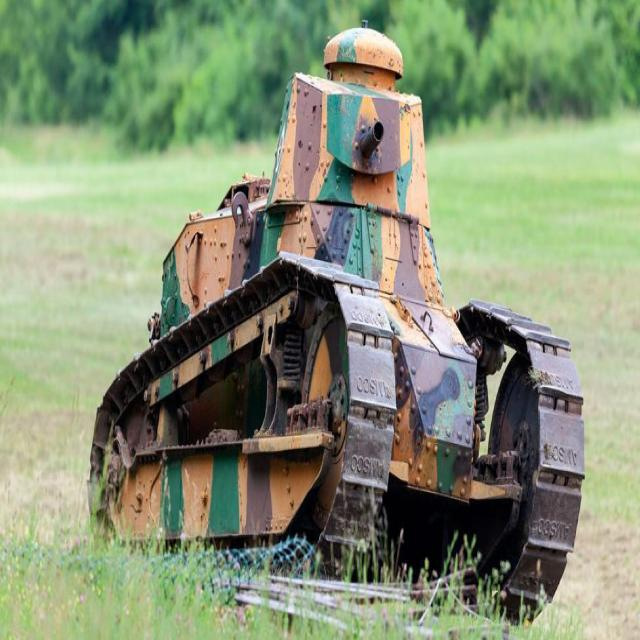Tanks: (90, 25, 591, 625)
